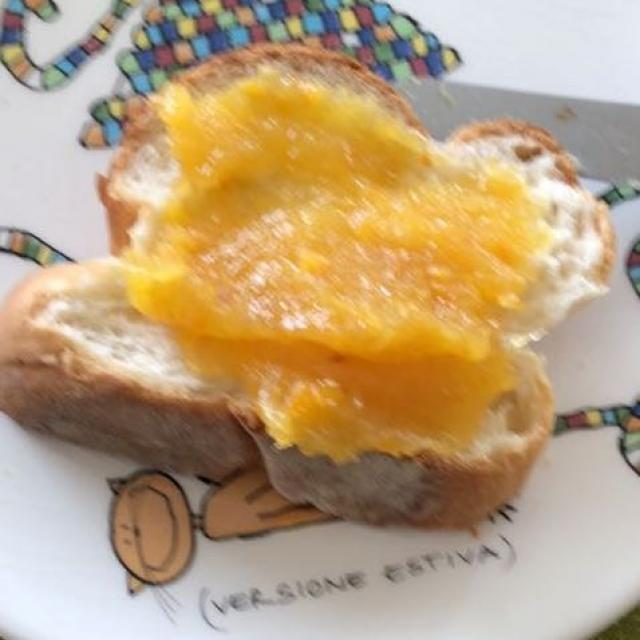bread: (14, 60, 615, 547), (13, 60, 619, 539)
jam: (115, 56, 542, 446), (123, 58, 536, 461)
